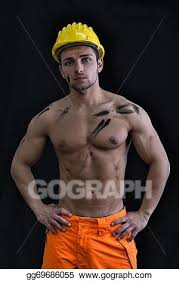Person_wearing_helmet: (47, 19, 104, 74)
